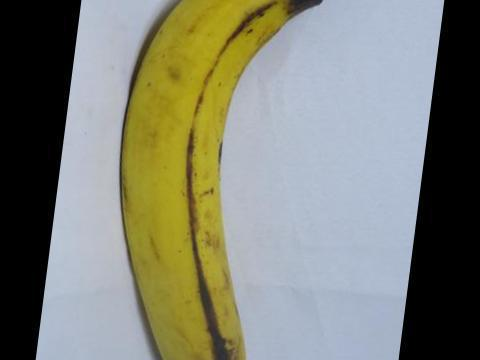ripe: (101, 0, 340, 359)
